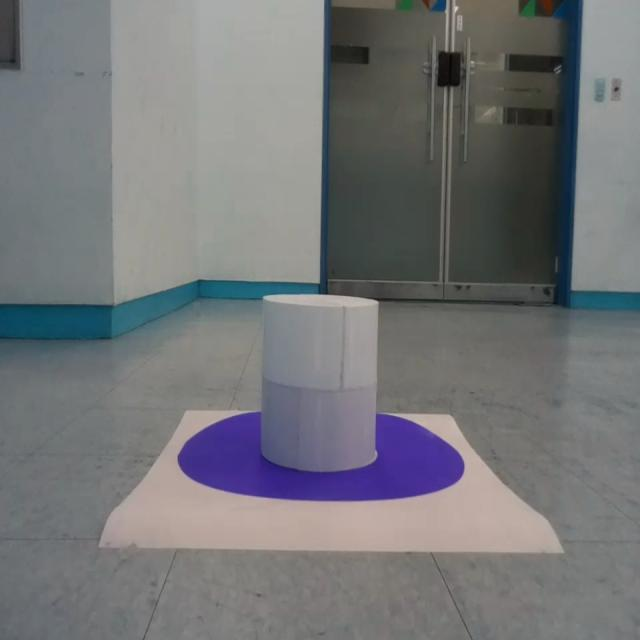cylinder: (258, 292, 378, 472)
